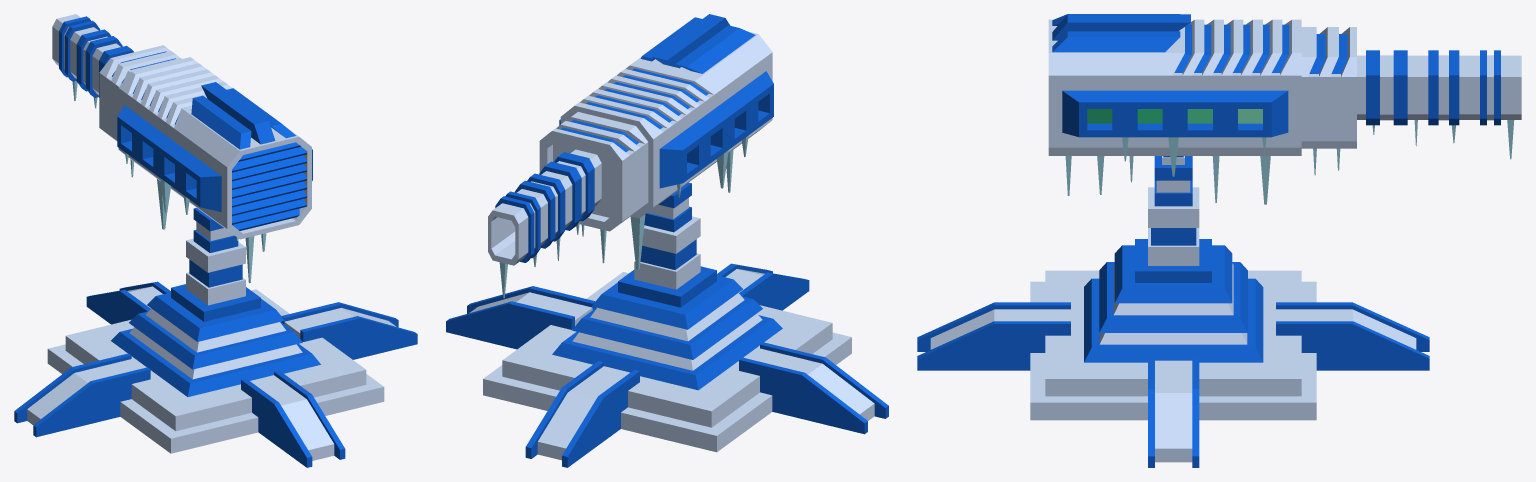
Rendered from Turret_Laser_2_B.fbx.
3 views of the same model, side by side, from view 1: azimuth 30°, elevation 25°; view 2: azimuth 150°, elevation 25°; view 3: azimuth 270°, elevation 25° (orthographic). The views are drawn at different scales.
Visible parts, largest first — view 1: LaserTurretBaseB, LaserHeadB; view 2: LaserTurretBaseB, LaserHeadB; view 3: LaserTurretBaseB, LaserHeadB.
Part boxes in pixels (x1=…): LaserTurretBaseB: x1=14, y1=208, x2=417, y2=467; LaserHeadB: x1=52, y1=14, x2=312, y2=283; LaserTurretBaseB: x1=446, y1=182, x2=888, y2=467; LaserHeadB: x1=488, y1=14, x2=773, y2=298; LaserTurretBaseB: x1=917, y1=156, x2=1429, y2=467; LaserHeadB: x1=1048, y1=14, x2=1521, y2=204.
Size of the model in its own units: 40 by 29.4 by 47.17.
1 material, 1 textured.
